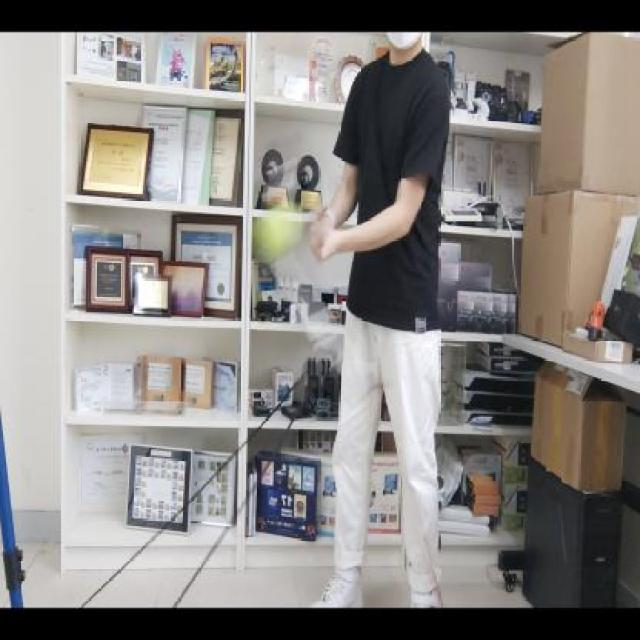baseball: (252, 202, 305, 260)
